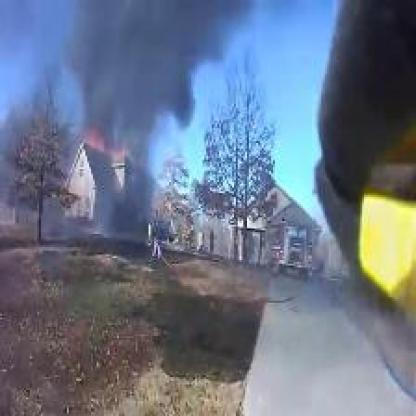other: (355, 193, 412, 290)
smoke: (69, 1, 240, 155)
